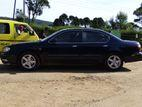car: (1, 27, 142, 71), (0, 18, 38, 43)
